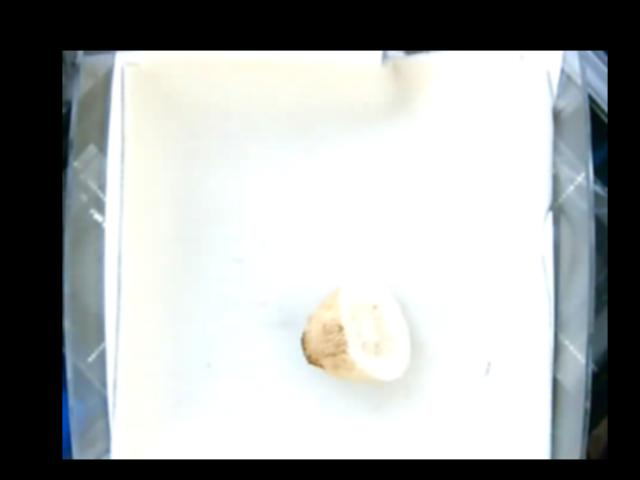Mooli: (297, 277, 412, 384)
